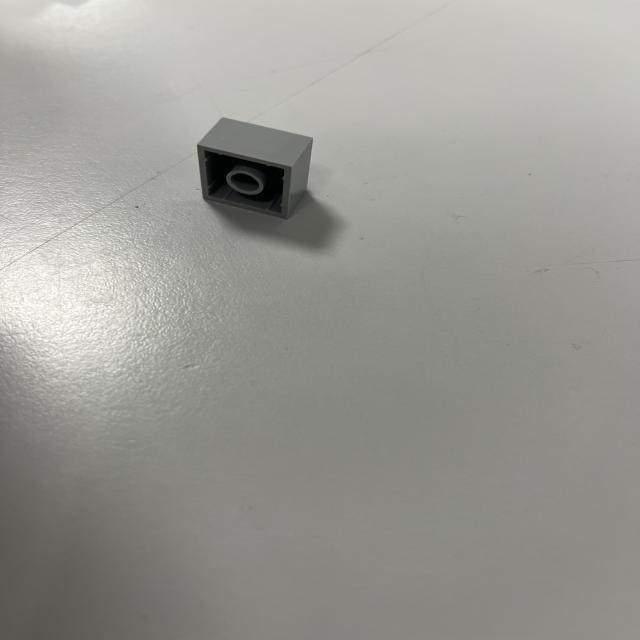C2x2x1: (191, 113, 319, 220)
